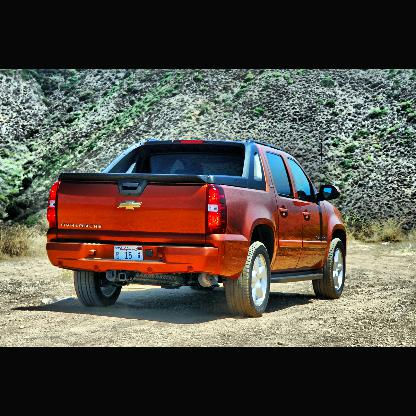Chevrolet Avalanche Crew Cab 2012: (47, 139, 349, 319)
